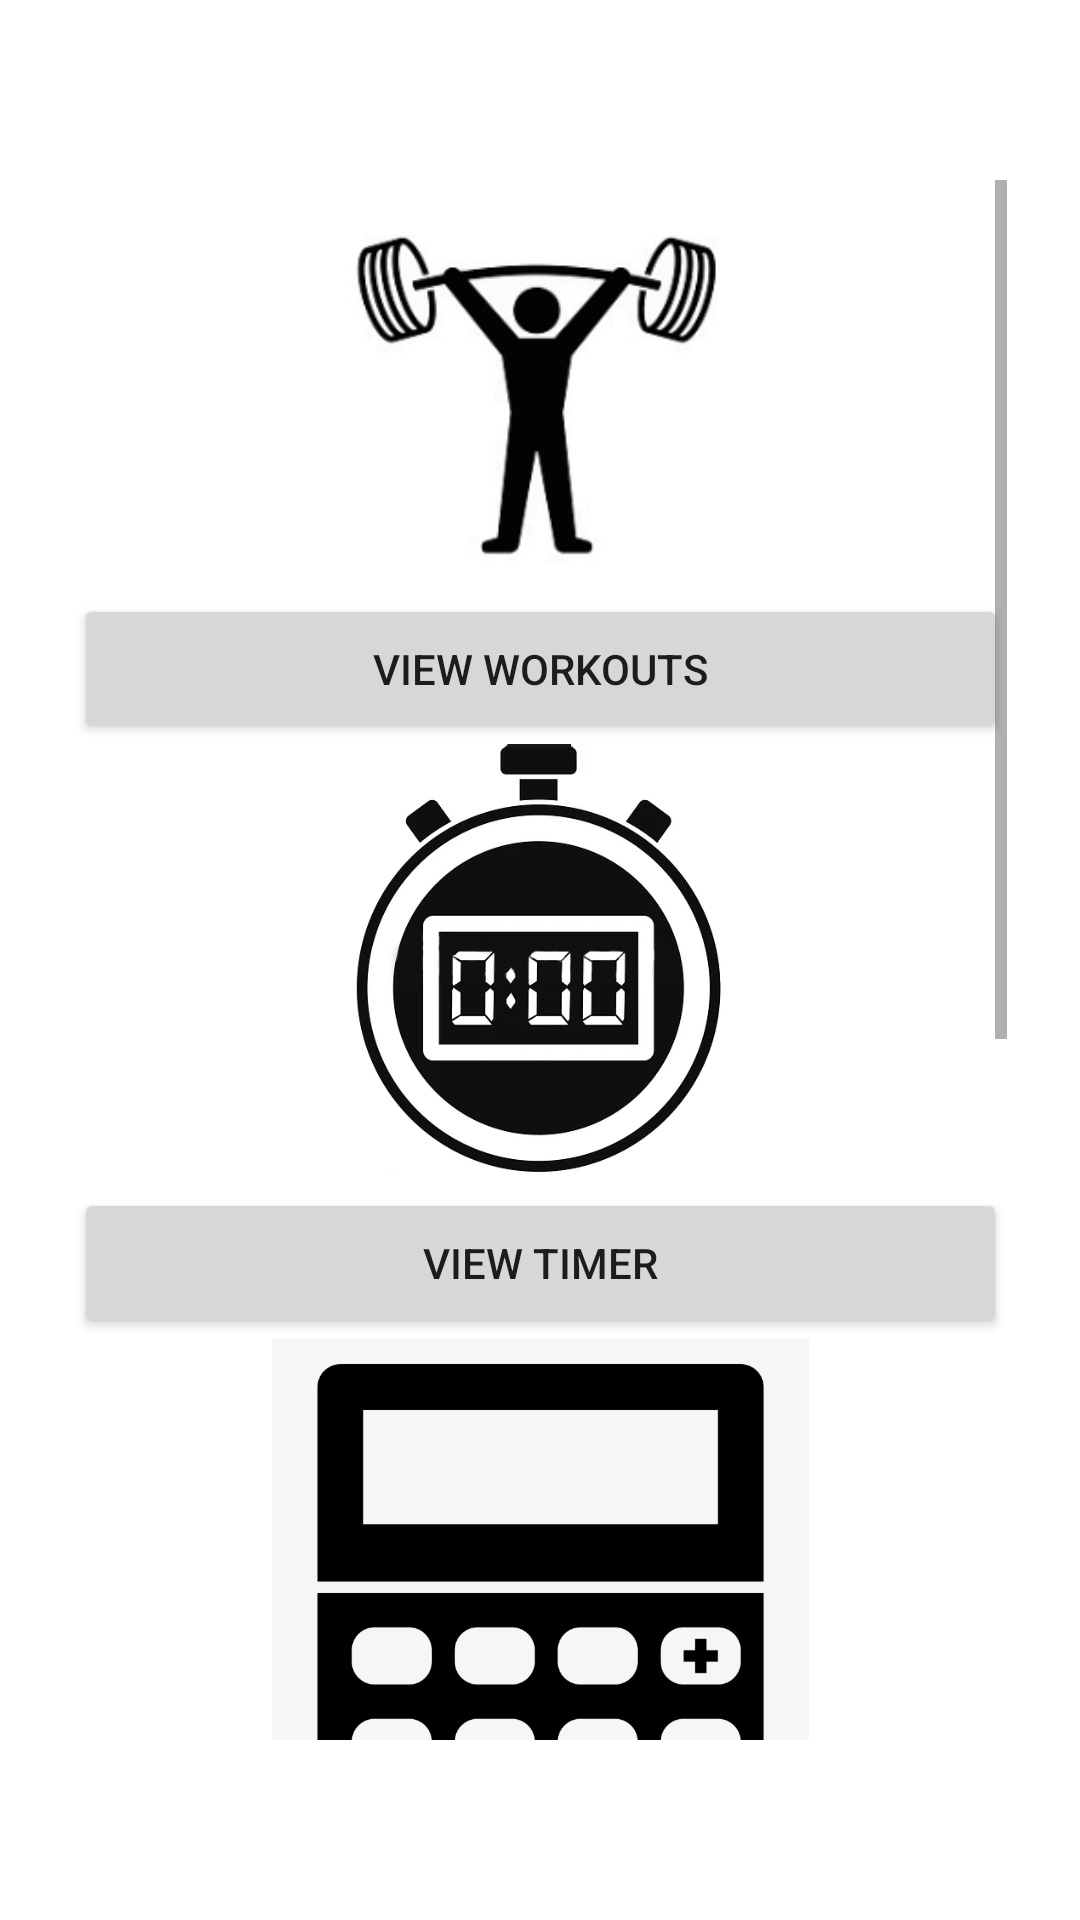

Where to tap for icons on this 1080 × 1920 app screen, as (x=x, y=y):
Workout image: (x=536, y=395)
